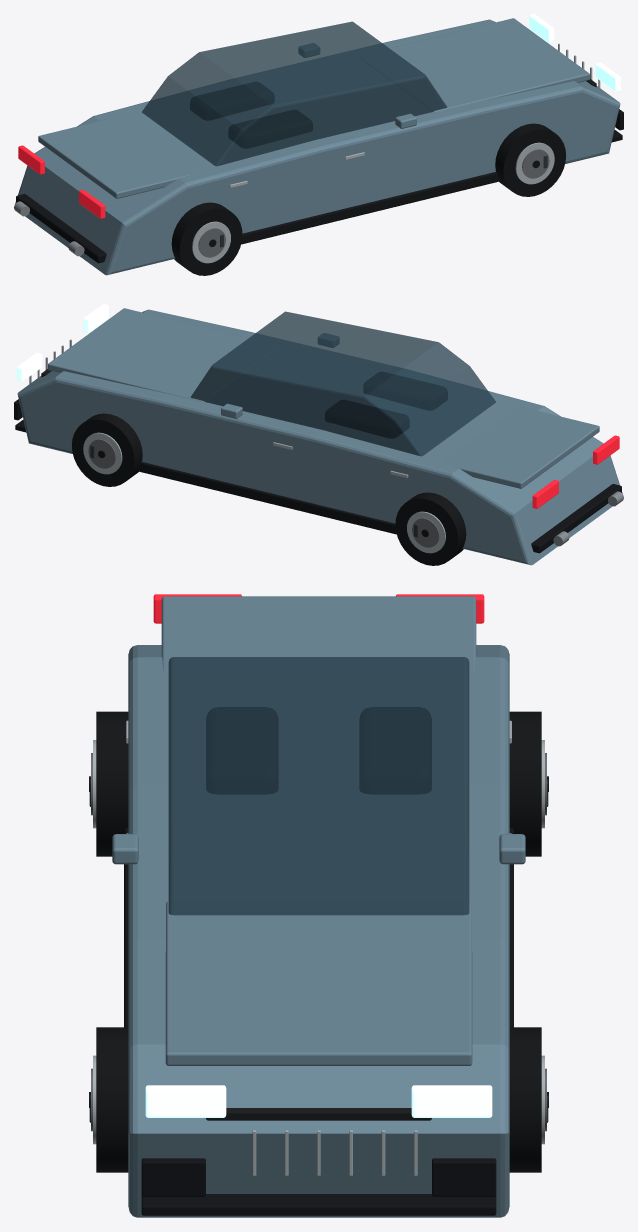
The model's file is rr_boat_tail.glb.
The picture shows the model from 3 angles, top to bottom: view 1: azimuth 30°, elevation 25°; view 2: azimuth 150°, elevation 25°; view 3: azimuth 270°, elevation 25°; orthographic projection. The views are drawn at different scales.
Visible parts, largest first — view 1: sculpted_body, glasshouse, hood_center, rear_deck, side_skirt_1, rear_right_wheel_tire, front_right_wheel_tire, seat_-1, seat_1, rear_diffuser, front_right_wheel_rim, rear_right_wheel_rim (+6 smaller); view 2: sculpted_body, glasshouse, hood_center, rear_deck, side_skirt_-1, rear_left_wheel_tire, front_left_wheel_tire, seat_1, seat_-1, rear_diffuser, front_left_wheel_rim, rear_left_wheel_rim (+6 smaller); view 3: sculpted_body, glasshouse, hood_center, rear_deck, front_splitter, seat_-1, seat_1, front_left_wheel_tire, front_right_wheel_tire, rear_left_wheel_tire, rear_right_wheel_tire, headlight_left (+6 smaller).
Part boxes in pixels (x1,y1,x2,y2): sculpted_body: [15, 19, 620, 275]; glasshouse: [142, 21, 447, 166]; hood_center: [358, 18, 589, 111]; rear_deck: [38, 116, 196, 198]; side_skirt_1: [241, 172, 500, 244]; rear_right_wheel_tire: [171, 202, 242, 275]; front_right_wheel_tire: [495, 123, 566, 196]; seat_-1: [190, 82, 273, 119]; seat_1: [229, 110, 312, 147]; rear_diffuser: [16, 194, 106, 263]; front_right_wheel_rim: [515, 142, 554, 184]; rear_right_wheel_rim: [192, 221, 230, 263]; sculpted_body: [17, 309, 622, 565]; glasshouse: [190, 311, 495, 456]; hood_center: [48, 308, 279, 401]; rear_deck: [441, 406, 599, 488]; side_skirt_-1: [137, 462, 396, 534]; rear_left_wheel_tire: [395, 492, 466, 565]; front_left_wheel_tire: [71, 413, 142, 486]; seat_1: [364, 372, 447, 409]; seat_-1: [325, 400, 408, 437]; rear_diffuser: [531, 484, 621, 553]; front_left_wheel_rim: [83, 432, 122, 474]; rear_left_wheel_rim: [407, 511, 445, 553]; sculpted_body: [128, 645, 509, 1217]; glasshouse: [168, 657, 469, 915]; hood_center: [165, 901, 472, 1065]; rear_deck: [161, 596, 476, 675]; front_splitter: [141, 1194, 496, 1215]; seat_-1: [360, 707, 431, 793]; seat_1: [206, 707, 277, 793]; front_left_wheel_tire: [509, 1027, 541, 1172]; front_right_wheel_tire: [96, 1027, 128, 1172]; rear_left_wheel_tire: [509, 711, 541, 856]; rear_right_wheel_tire: [96, 711, 128, 856]; headlight_left: [411, 1085, 492, 1117].
Bounding box in the file's own units: 6.18 × 1.49 × 2.28.
